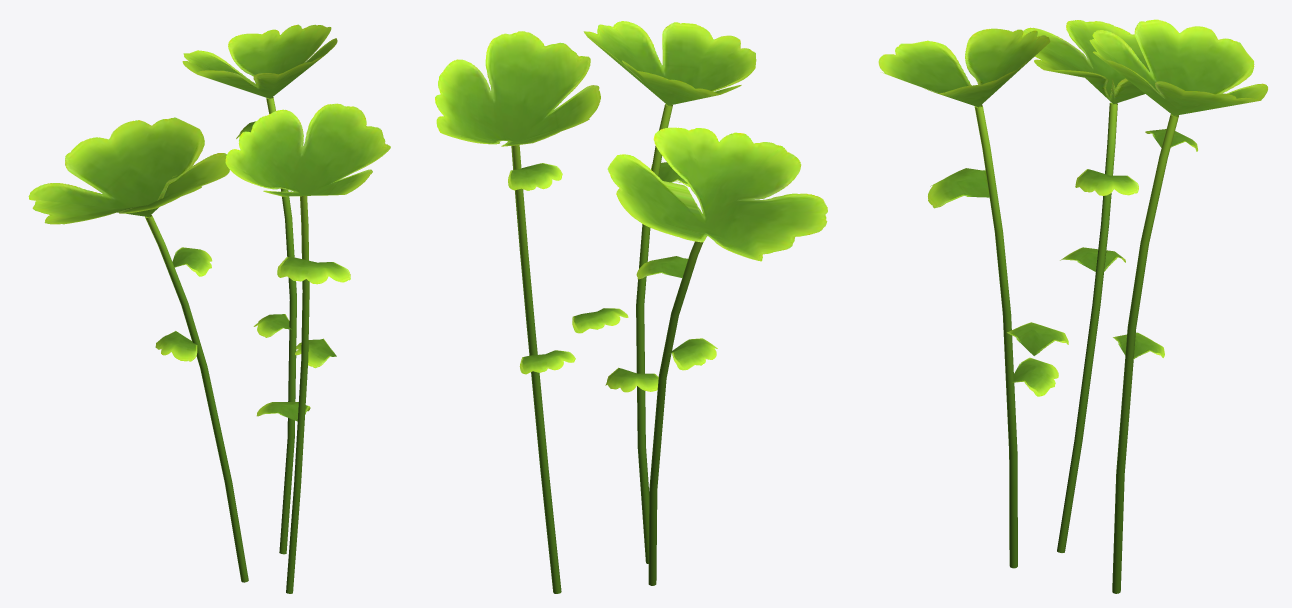
Rendered from Clover_1.gltf.
The picture shows the model from 3 angles, left to right: view 1: azimuth 30°, elevation 25°; view 2: azimuth 150°, elevation 25°; view 3: azimuth 270°, elevation 25°; orthographic projection. The views are drawn at different scales.
Visible parts, largest first — view 1: Clover_1; view 2: Clover_1; view 3: Clover_1.
Boxes of the visible parts, box(x1,y1,x2,y2) form: Clover_1: box(28, 24, 390, 593); Clover_1: box(435, 21, 827, 593); Clover_1: box(878, 19, 1267, 593).
Bounding box in the file's own units: 0.7963 × 1.14 × 0.7639.
1 material, 1 textured.
